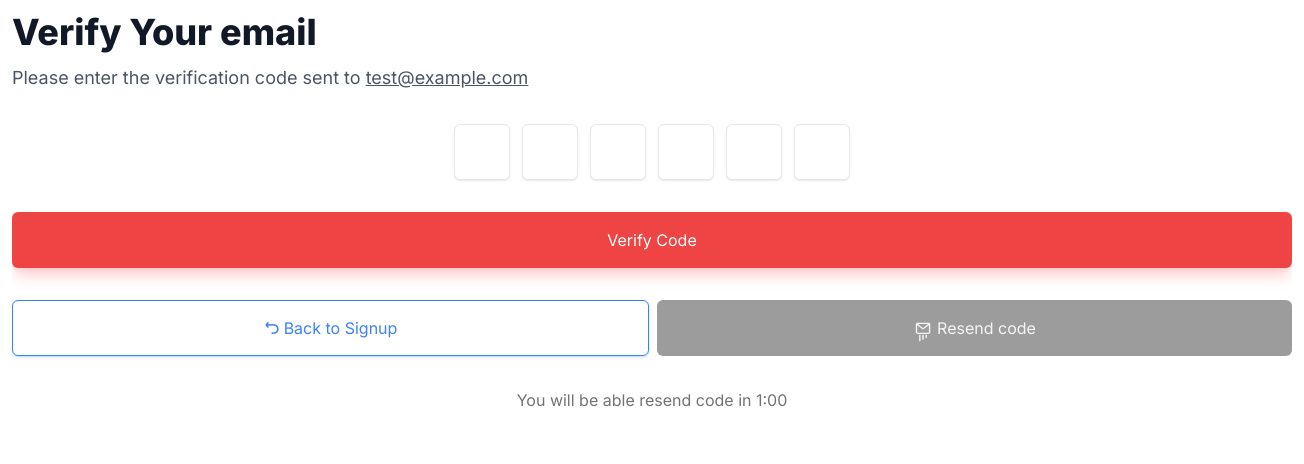
Test: <VerifyCodeForm /> › 1. Displays error message for code input when invalid code is entered
Type "1" into the 1st field at (482, 152), box [454,124,510,180]
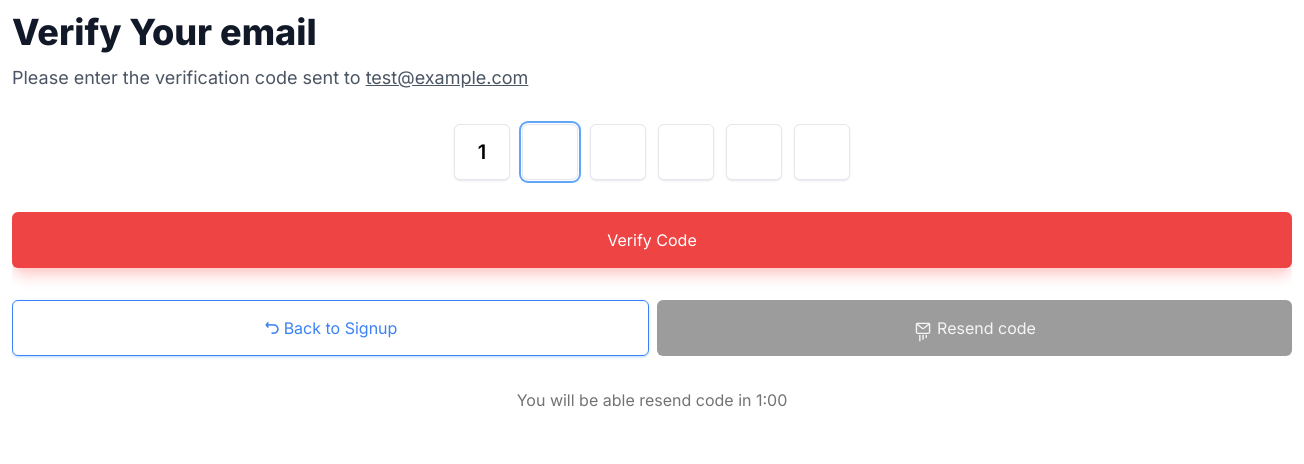
Type "2" into the 2nd field at (550, 152), box [522,124,578,180]
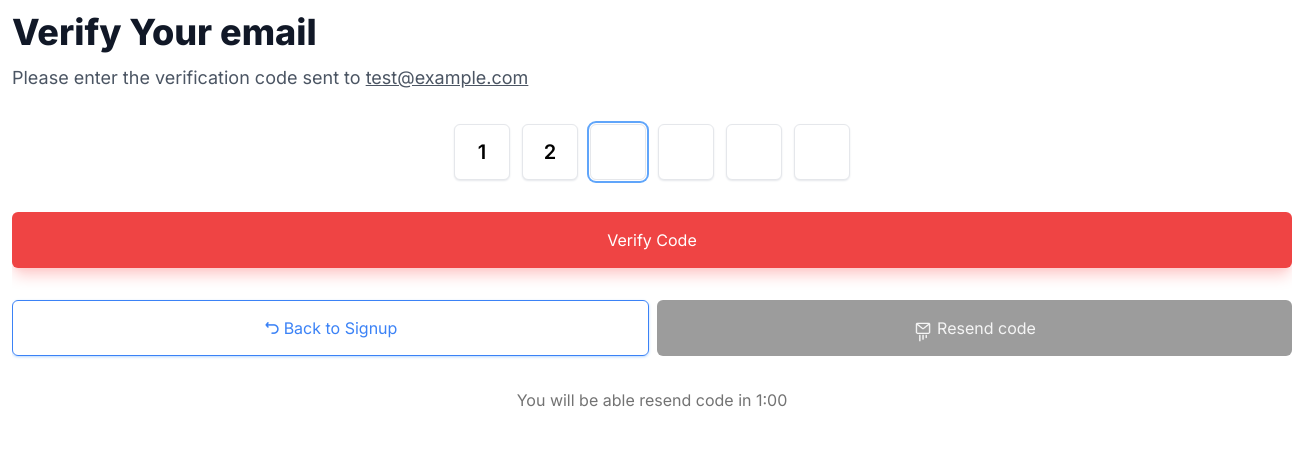
Type "3" into the 3rd field at (618, 152), box [590,124,646,180]
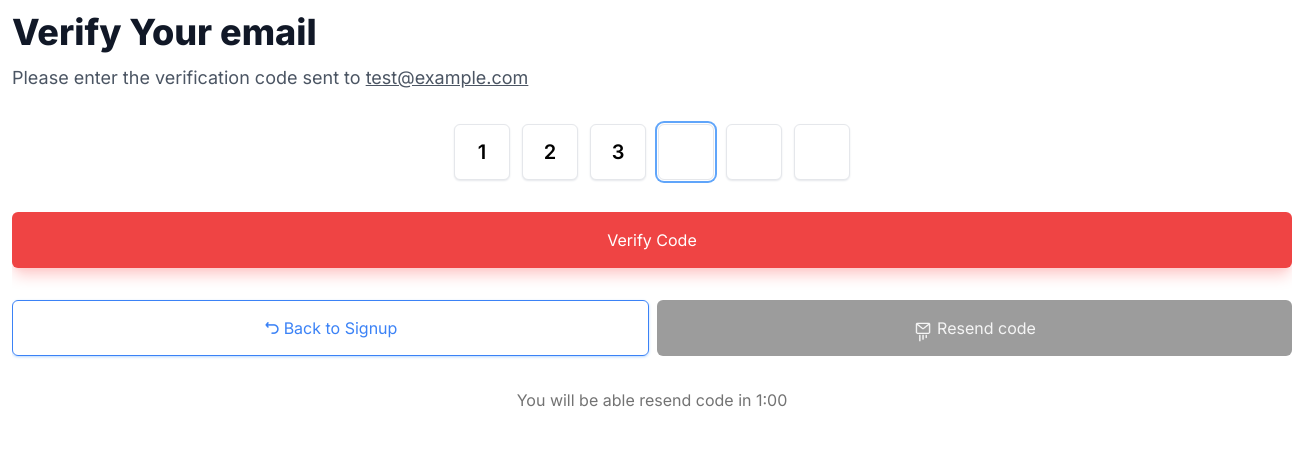
Click the button with test id "SubmittingButton" at (652, 240), box [12,212,1292,268]
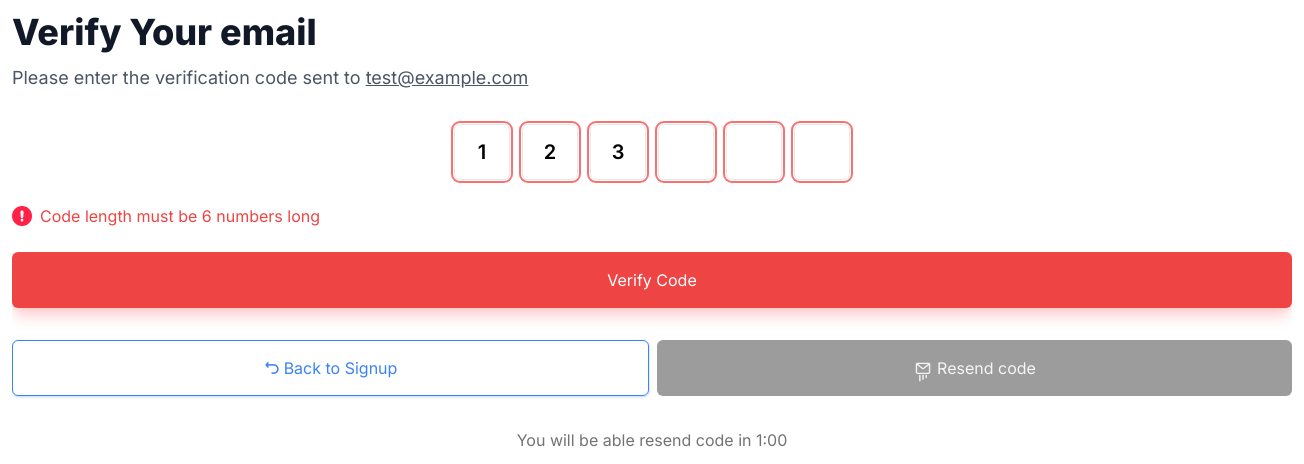
Check: the text with test id "ErrorMessageComponent.Message" reads "Code length must be 6 numbers long", box [40,206,320,226]
